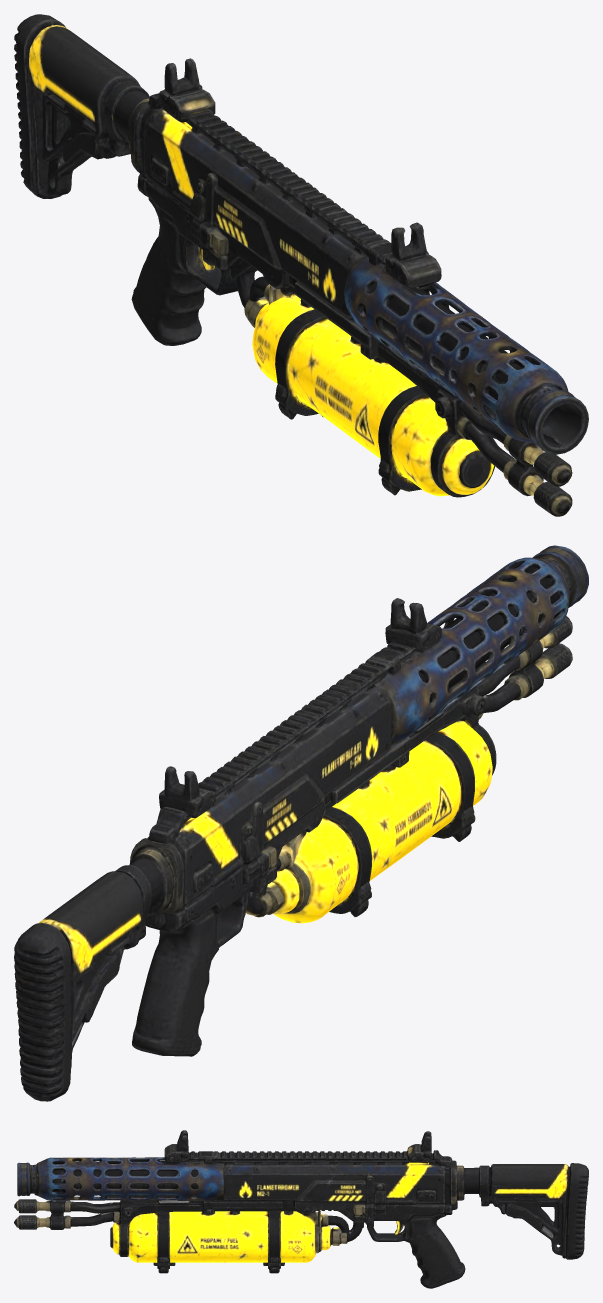
Rendered from heavy_flamethrower.medium.glb.
3 renders of one model, top to bottom at view 1: azimuth 30°, elevation 25°; view 2: azimuth 150°, elevation 25°; view 3: azimuth 270°, elevation 25°, orthographic. The views are drawn at different scales.
Visible parts, largest first — view 1: model; view 2: model; view 3: model.
Boxes of the visible parts, box(x1,y1,x2,y2) form: model: box(14, 14, 588, 516); model: box(14, 545, 588, 1101); model: box(14, 1130, 588, 1288).
Size of the model in its own units: 0.0913 by 0.2785 by 0.9515.
Materials: 1 (1 with a texture image).
